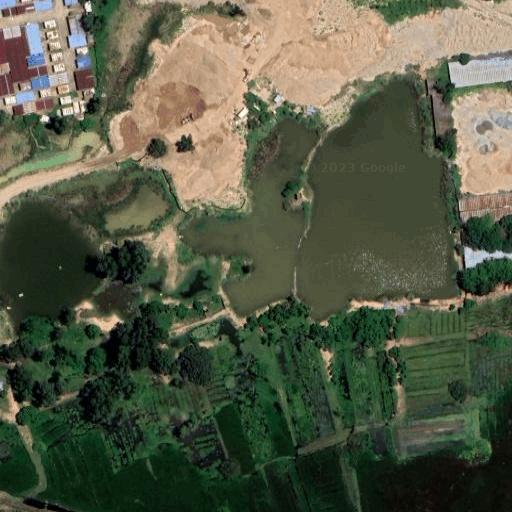building: (449, 54, 512, 91), (458, 193, 512, 223), (463, 241, 512, 268), (4, 36, 30, 82), (19, 21, 44, 56), (433, 94, 451, 138), (75, 68, 94, 91), (68, 14, 86, 35), (25, 52, 47, 68), (13, 101, 37, 115), (0, 73, 14, 95), (1, 25, 21, 40), (28, 65, 48, 78), (30, 77, 50, 90), (67, 34, 87, 47), (35, 98, 55, 110), (16, 3, 35, 14), (427, 81, 441, 95), (15, 92, 28, 105), (72, 101, 86, 113), (77, 55, 91, 67), (2, 7, 17, 17), (48, 72, 58, 87), (19, 81, 32, 92), (46, 30, 60, 40), (53, 62, 65, 73), (56, 73, 67, 85), (44, 19, 57, 28), (49, 41, 61, 50), (51, 52, 63, 61), (83, 91, 95, 100), (84, 0, 92, 13), (5, 96, 16, 105), (62, 107, 74, 115), (26, 91, 35, 101), (40, 89, 51, 97), (57, 85, 68, 93), (77, 47, 88, 55), (74, 112, 84, 120), (60, 97, 71, 104), (64, 0, 78, 5), (39, 116, 49, 123), (86, 35, 94, 43), (57, 110, 63, 117), (0, 380, 2, 393)
